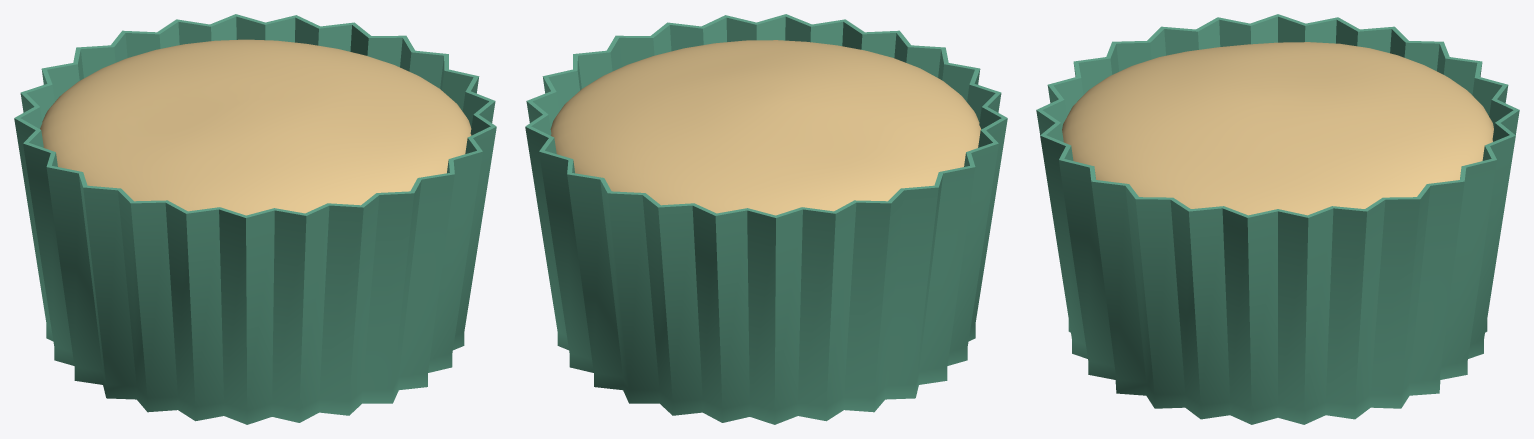
Rendered from Cup Cake.fbx.
The picture shows the model from 3 angles, left to right: view 1: azimuth 30°, elevation 25°; view 2: azimuth 150°, elevation 25°; view 3: azimuth 270°, elevation 25°; orthographic projection.
Visible parts, largest first — view 1: pCylinder1, pSphere1; view 2: pCylinder1, pSphere1; view 3: pCylinder1, pSphere1.
Part boxes in pixels (bbox=[...]): pCylinder1: bbox=[14, 14, 496, 424]; pSphere1: bbox=[40, 39, 471, 215]; pCylinder1: bbox=[525, 14, 1007, 424]; pSphere1: bbox=[550, 40, 981, 215]; pCylinder1: bbox=[1036, 14, 1519, 424]; pSphere1: bbox=[1062, 42, 1493, 215].
Size of the model in its own units: 3.28 by 1.79 by 3.28.
